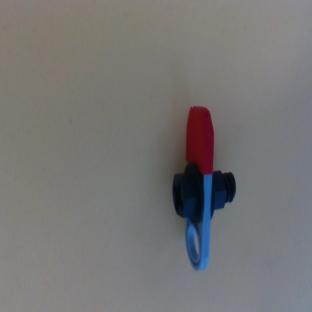part_1_good: (157, 104, 250, 274)
